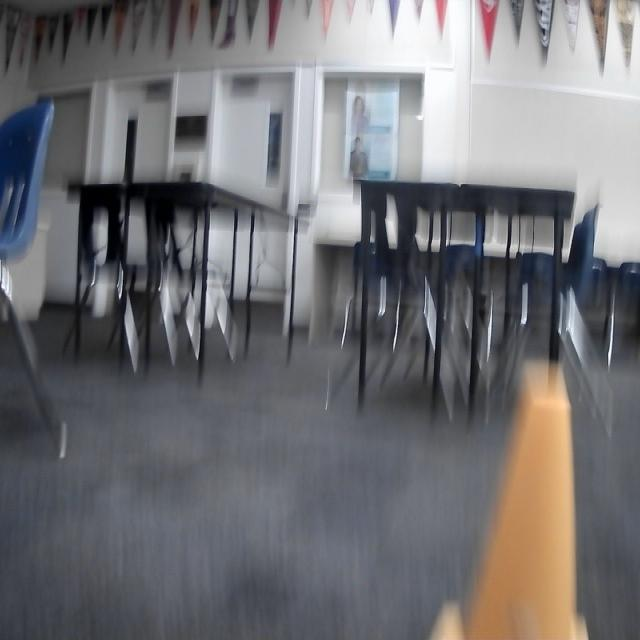cone: (425, 369, 595, 640)
